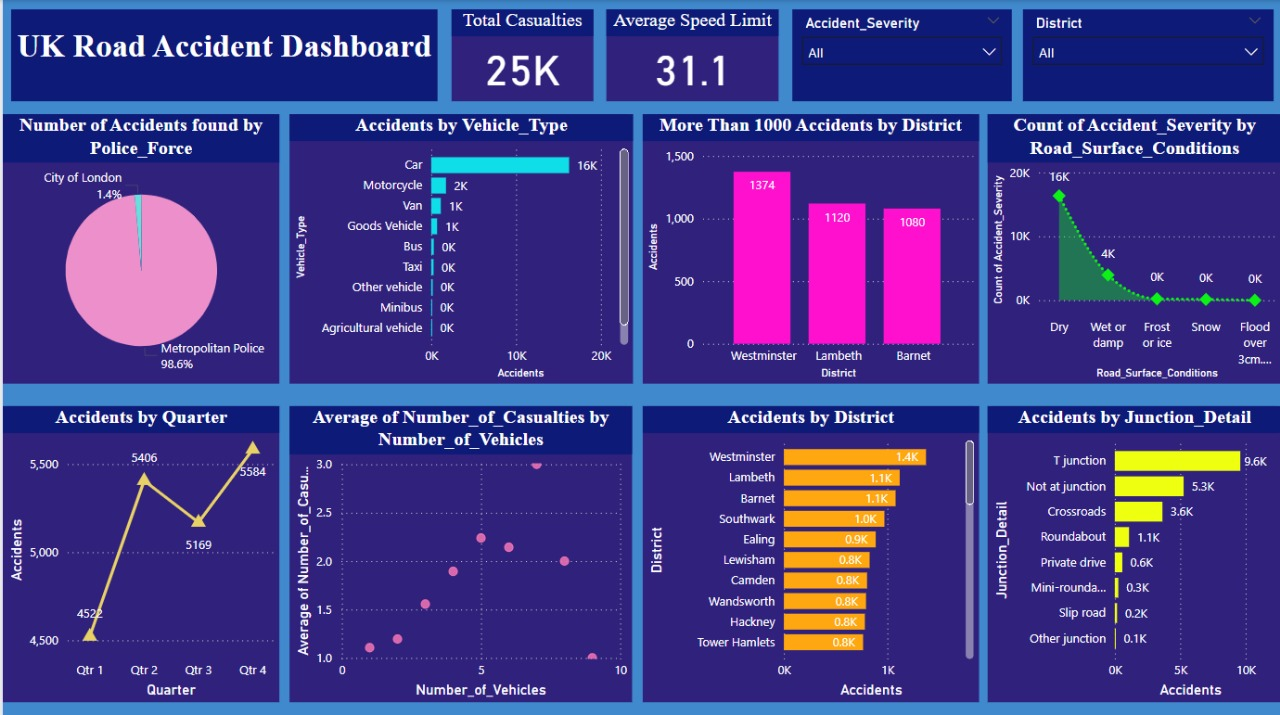

The page's visual inventory and layout, read from the dashboard file:
{"tool":"powerbi","page":{"name":"Page 1","canvas":[1280,720],"ordinal":0},"visuals":[{"type":"textbox","box":[8.6,9.6,426.8,91.9],"z":0},{"type":"card","title":"Total Casualties ","fields":{"Values":["Sum(Accident_details.Number_of_Casualties)"]},"box":[449.3,9.6,141.8,92],"z":1000},{"type":"card","title":"Average Speed Limit","fields":{"Values":["Avg(Accident_details.Speed_limit)"]},"box":[604.6,9.6,172.5,92],"z":2000},{"type":"pieChart","title":"Number of Accidents found by Police_Force","fields":{"Category":["Accident_details.Police_Force"],"Y":["CountNonNull(Accident_details.Accident_Index)"]},"box":[0,114,276.9,269.2],"z":3000},{"type":"columnChart","title":"More Than 1000 Accidents  by District","fields":{"Category":["Accident_details.District"],"Y":["CountNonNull(Accident_details.Accident_Index)"]},"box":[641,114,336.3,269.2],"z":4000},{"type":"barChart","title":"Accidents by Vehicle_Type","fields":{"Category":["Accident_details.Vehicle_Type"],"Y":["CountNonNull(Accident_details.Accident_Index)"]},"box":[286.5,114,344,269.2],"z":5000},{"type":"scatterChart","fields":{"Y":["Avg(Accident_details.Number_of_Casualties)"],"X":["Accident_details.Number_of_Vehicles"]},"box":[286.5,406.2,343,296],"z":6000},{"type":"lineChart","title":"Accidents by Quarter","fields":{"Y":["CountNonNull(Accident_details.Accident_Index)"],"Category":["Table 1 (Accident_details).Accident Date.Variation.Date Hierarchy.Quarter"]},"box":[0,406.2,276.9,296],"z":7000},{"type":"barChart","title":"Accidents by Junction_Detail","fields":{"Category":["Accident_details.Junction_Detail"],"Y":["CountNonNull(Accident_details.Accident_Index)"]},"box":[985.9,406.2,294.1,296],"z":8000},{"type":"areaChart","fields":{"Category":["Accident_details.Road_Surface_Conditions"],"Y":["CountNonNull(Accident_details.Accident_Severity)"]},"box":[985.9,114,294.1,269.2],"z":9000},{"type":"slicer","fields":{"Values":["Accident_details.Accident_Severity"]},"box":[790,9.8,219.9,92.2],"z":10000},{"type":"slicer","fields":{"Values":["Accident_details.District"]},"box":[1020.6,9.8,250.9,92.2],"z":11000},{"type":"barChart","title":"Accidents by District","fields":{"Category":["Accident_details.District"],"Y":["CountNonNull(Accident_details.Accident_Index)"]},"box":[640,406.2,336.3,296],"z":12000}]}

Visuals, with their boxes in screenshot pixels (x1, y1, x2, y2), scaled from the page's 1280x720 canvas onto the 1280x715 screenshot:
textbox: box=[9, 10, 435, 101]
"Total Casualties " card: box=[449, 10, 591, 101]
"Average Speed Limit" card: box=[605, 10, 777, 101]
"Number of Accidents found by Police_Force" pieChart: box=[0, 113, 277, 381]
"More Than 1000 Accidents  by District" columnChart: box=[641, 113, 977, 381]
"Accidents by Vehicle_Type" barChart: box=[286, 113, 630, 381]
scatterChart - Avg(Accident_details.Number_of_Casualties) x Accident_details.Number_of_Vehicles: box=[286, 403, 630, 697]
"Accidents by Quarter" lineChart: box=[0, 403, 277, 697]
"Accidents by Junction_Detail" barChart: box=[986, 403, 1279, 697]
areaChart - Accident_details.Road_Surface_Conditions x CountNonNull(Accident_details.Accident_Severity): box=[986, 113, 1279, 381]
slicer - Accident_details.Accident_Severity: box=[790, 10, 1010, 101]
slicer - Accident_details.District: box=[1021, 10, 1272, 101]
"Accidents by District" barChart: box=[640, 403, 976, 697]
